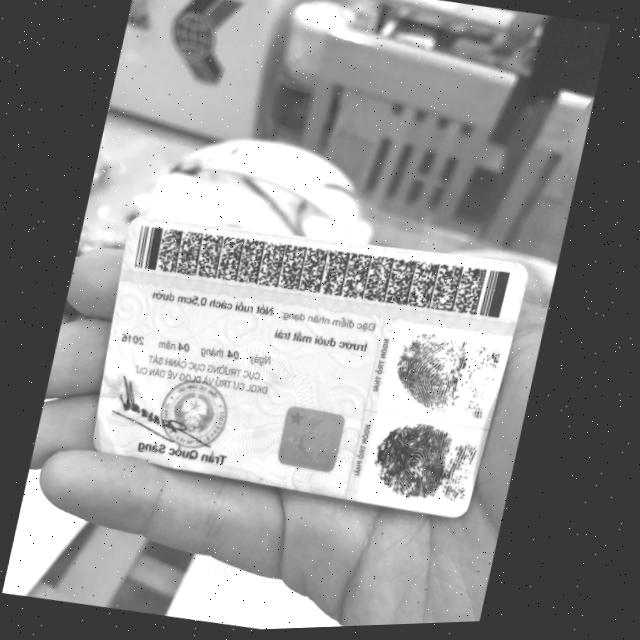card: (93, 218, 525, 516)
